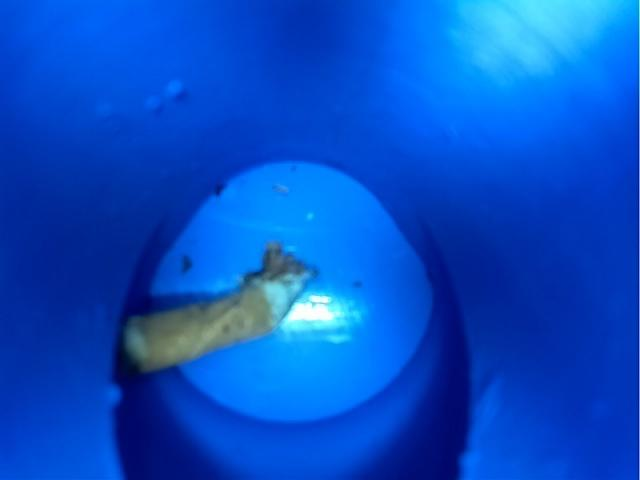megot: (111, 238, 332, 379)
